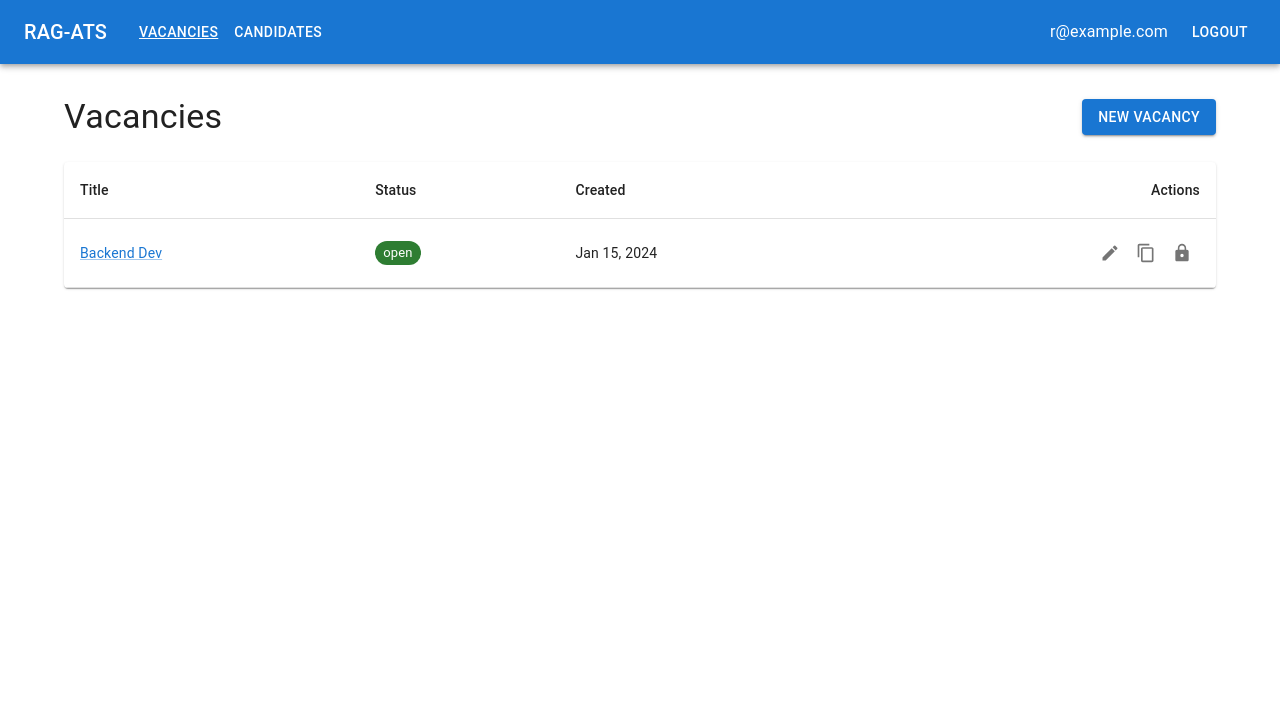
VacanciesPage › closes and reopens a vacancy
Expected: the link "Backend Dev" is shown, [80,245,162,261]
Click the button named "Close Backend Dev": (1182, 253) [1164,235,1200,271]
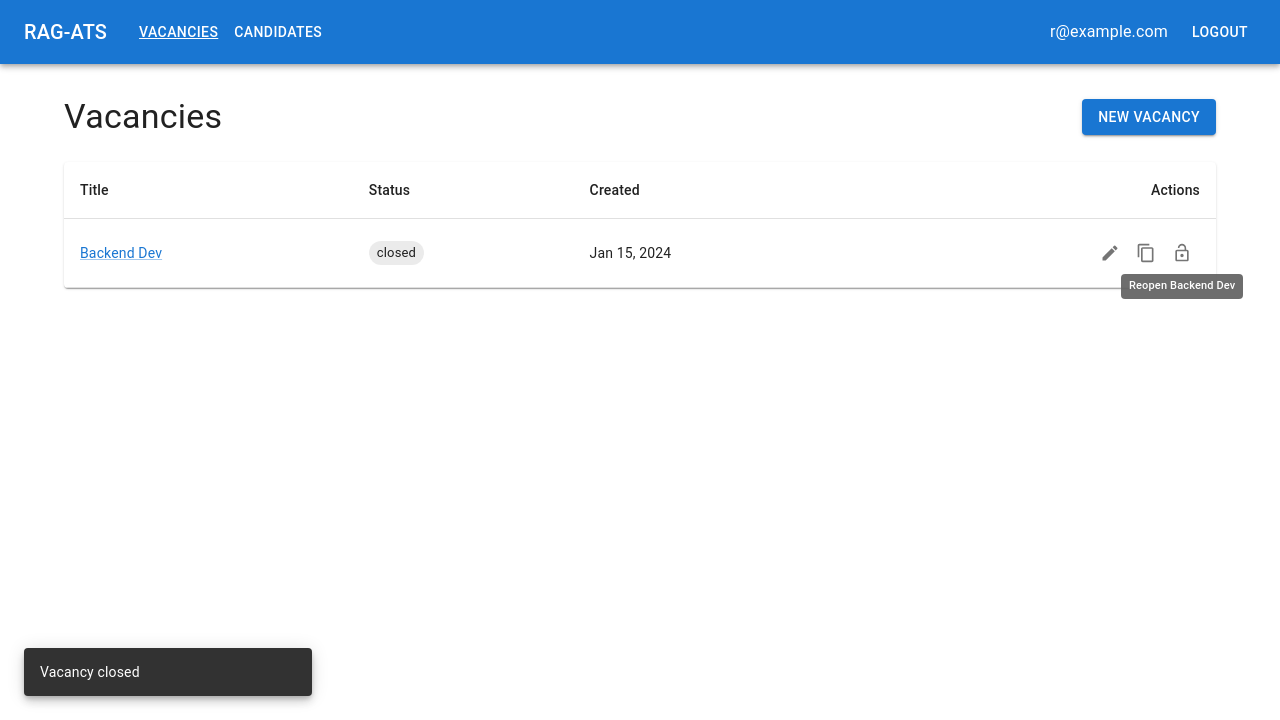
Expected: the text "Vacancy closed" is shown, [40,664,140,680]
Expected: the text "closed" is shown, [377,245,416,260]
Expected: the button named "Reopen Backend Dev" is shown
Click the button named "Reopen Backend Dev": (1182, 253) [1164,235,1200,271]
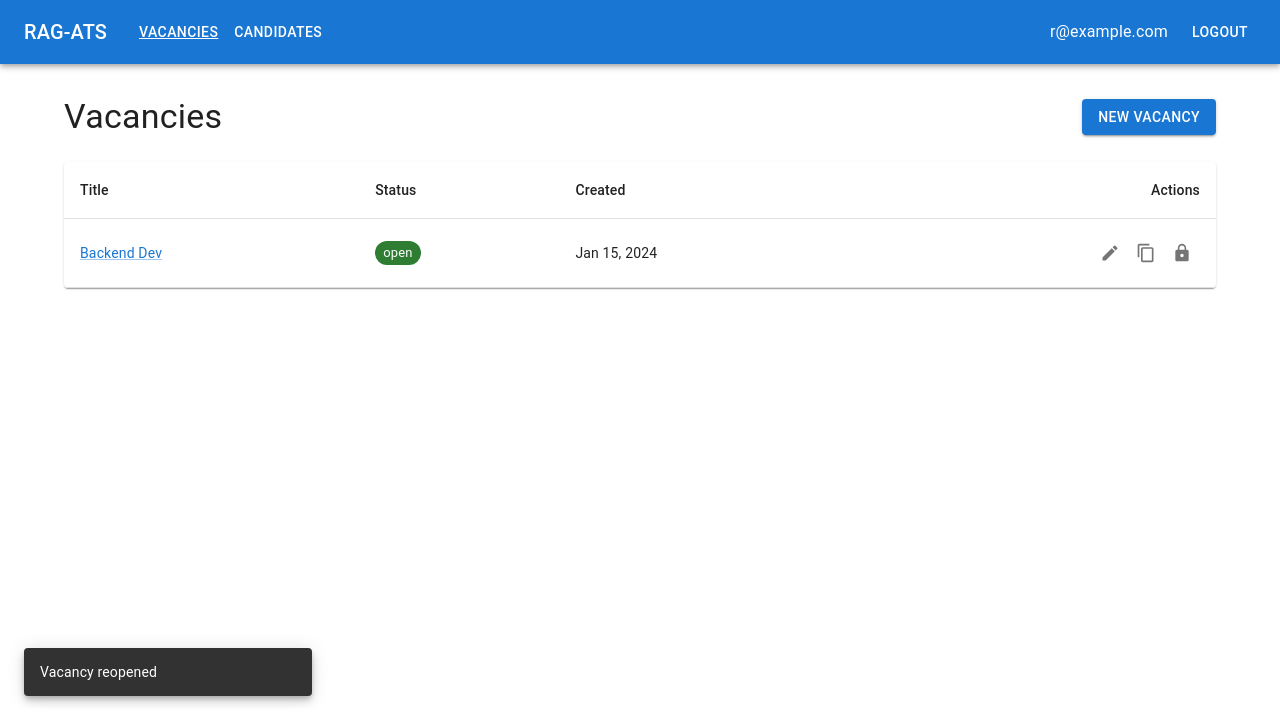
Expected: the text "Vacancy reopened" is shown, [40,664,157,680]
Expected: the text "open" is shown, [383,245,413,260]
